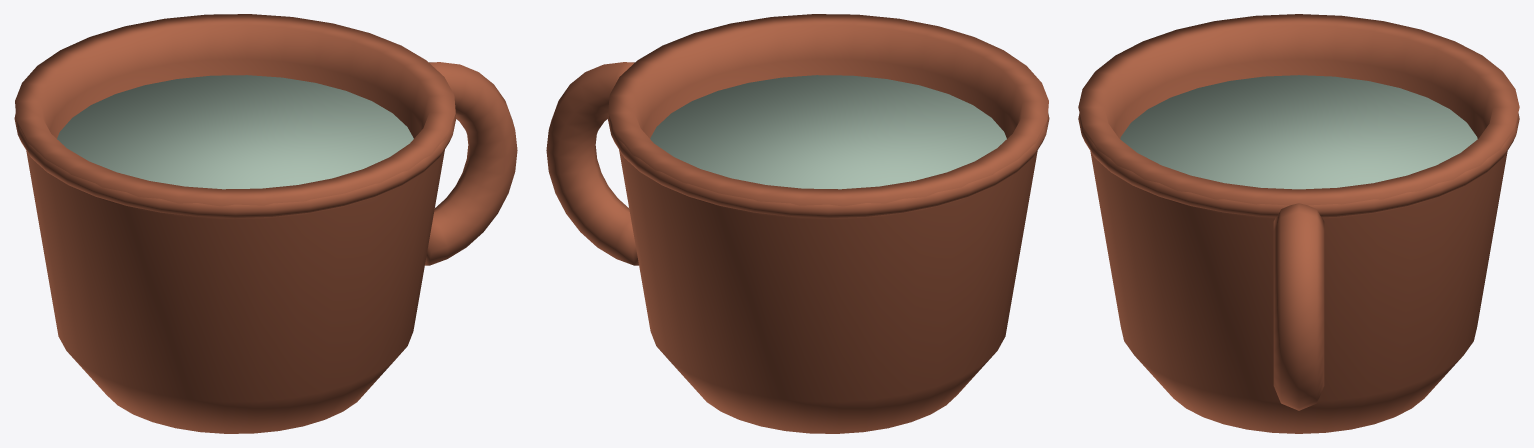
The model's file is clay-cup.glb.
3 renders of one model, left to right at view 1: azimuth 30°, elevation 25°; view 2: azimuth 150°, elevation 25°; view 3: azimuth 270°, elevation 25°, orthographic.
Visible parts, largest first — view 1: wheel-thrown cup, still water; view 2: wheel-thrown cup, still water; view 3: wheel-thrown cup, still water.
Boxes of the visible parts, left/top/right/bottom form: wheel-thrown cup: left=14, top=14, right=517, bottom=433; still water: left=57, top=75, right=413, bottom=189; wheel-thrown cup: left=546, top=14, right=1049, bottom=433; still water: left=650, top=75, right=1006, bottom=189; wheel-thrown cup: left=1078, top=14, right=1519, bottom=433; still water: left=1120, top=75, right=1477, bottom=189.
Bounding box in the file's own units: 0.64 × 0.36 × 0.52.
